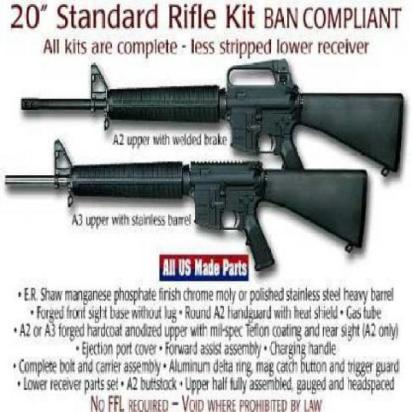Gun: (7, 141, 373, 288), (15, 49, 408, 168)
